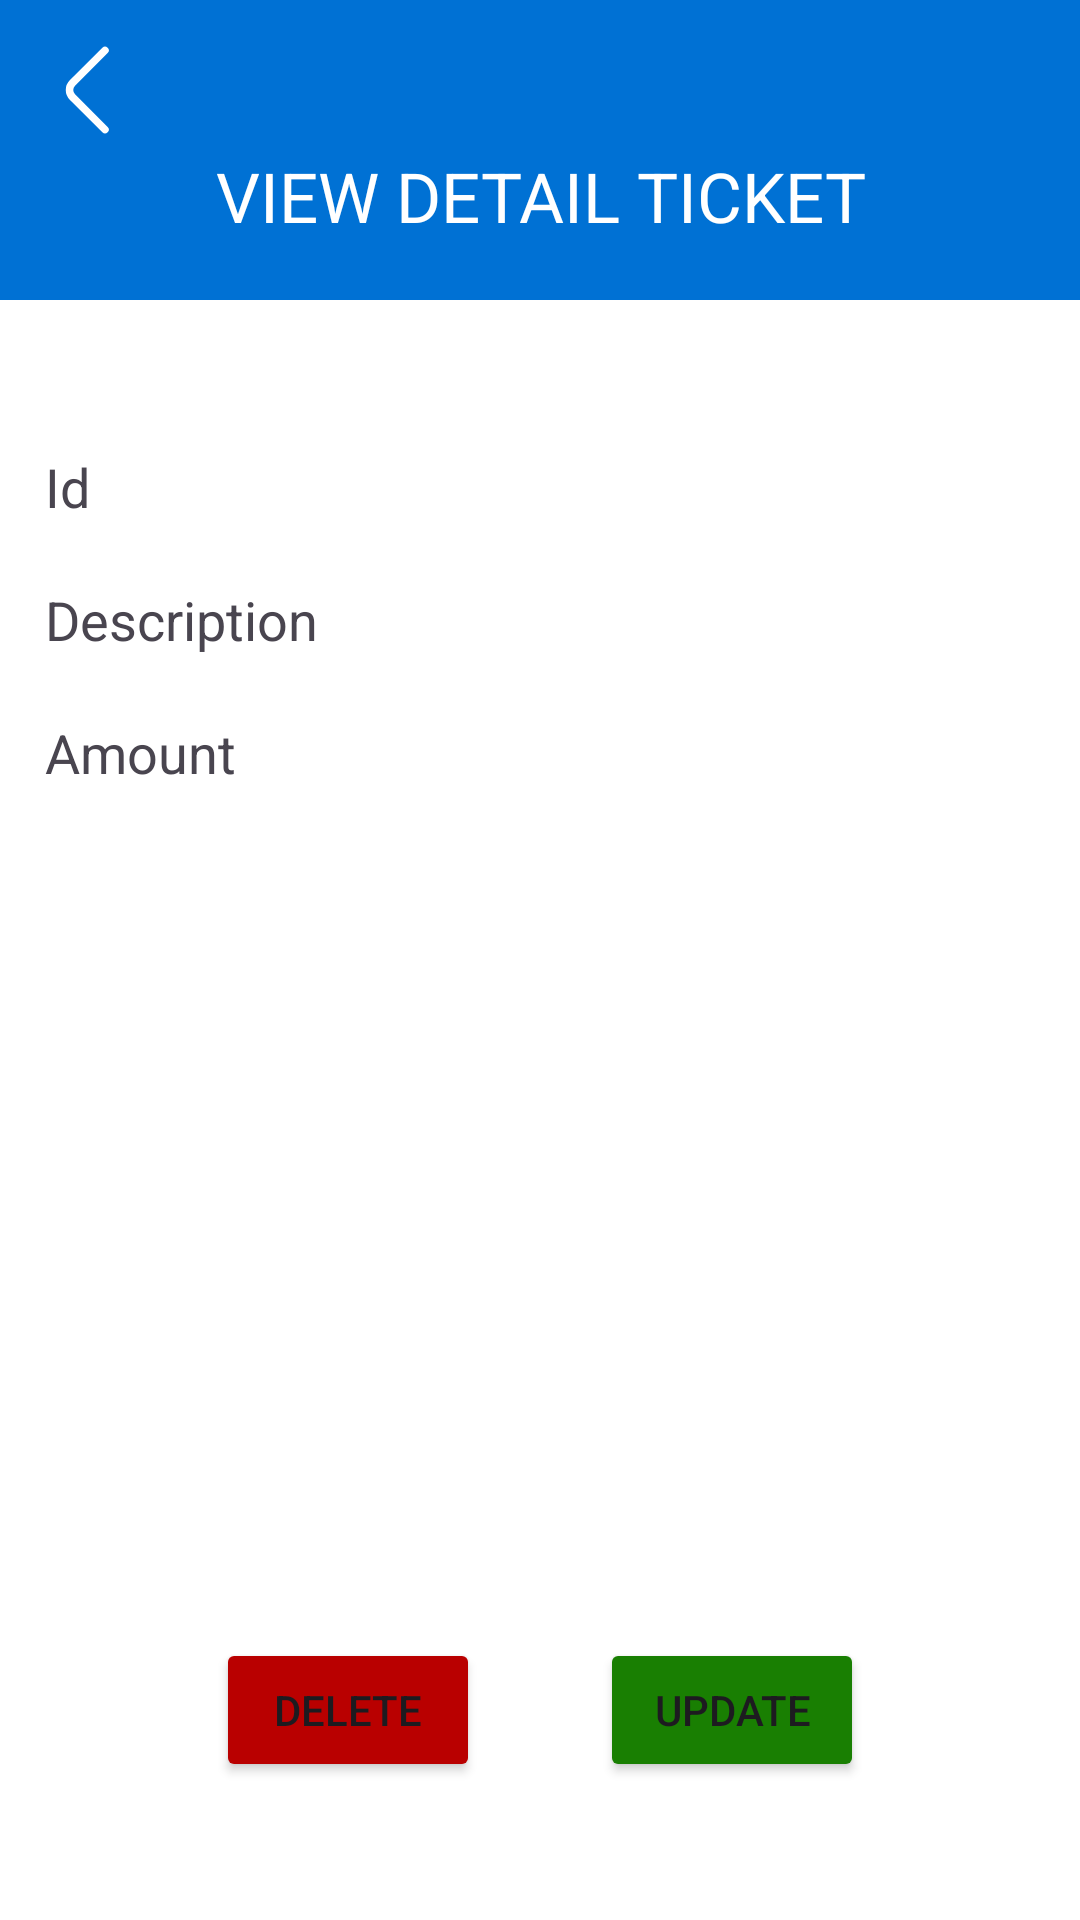

Screen size 1080*1920. Icon name, then its box in pixels as BBox(x1, y1, x2, y2):
back: BBox(65, 46, 109, 134)
